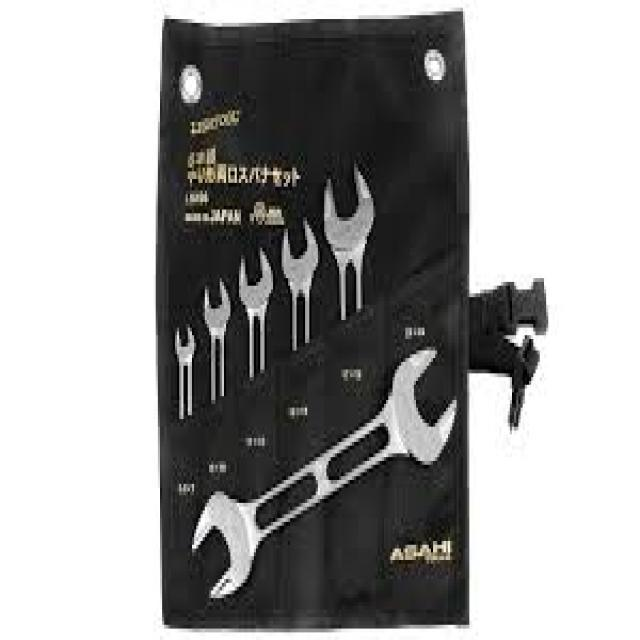wrench: (190, 344, 460, 606), (318, 155, 378, 329), (277, 212, 321, 358), (233, 243, 276, 380), (201, 272, 232, 408), (172, 317, 199, 425)
